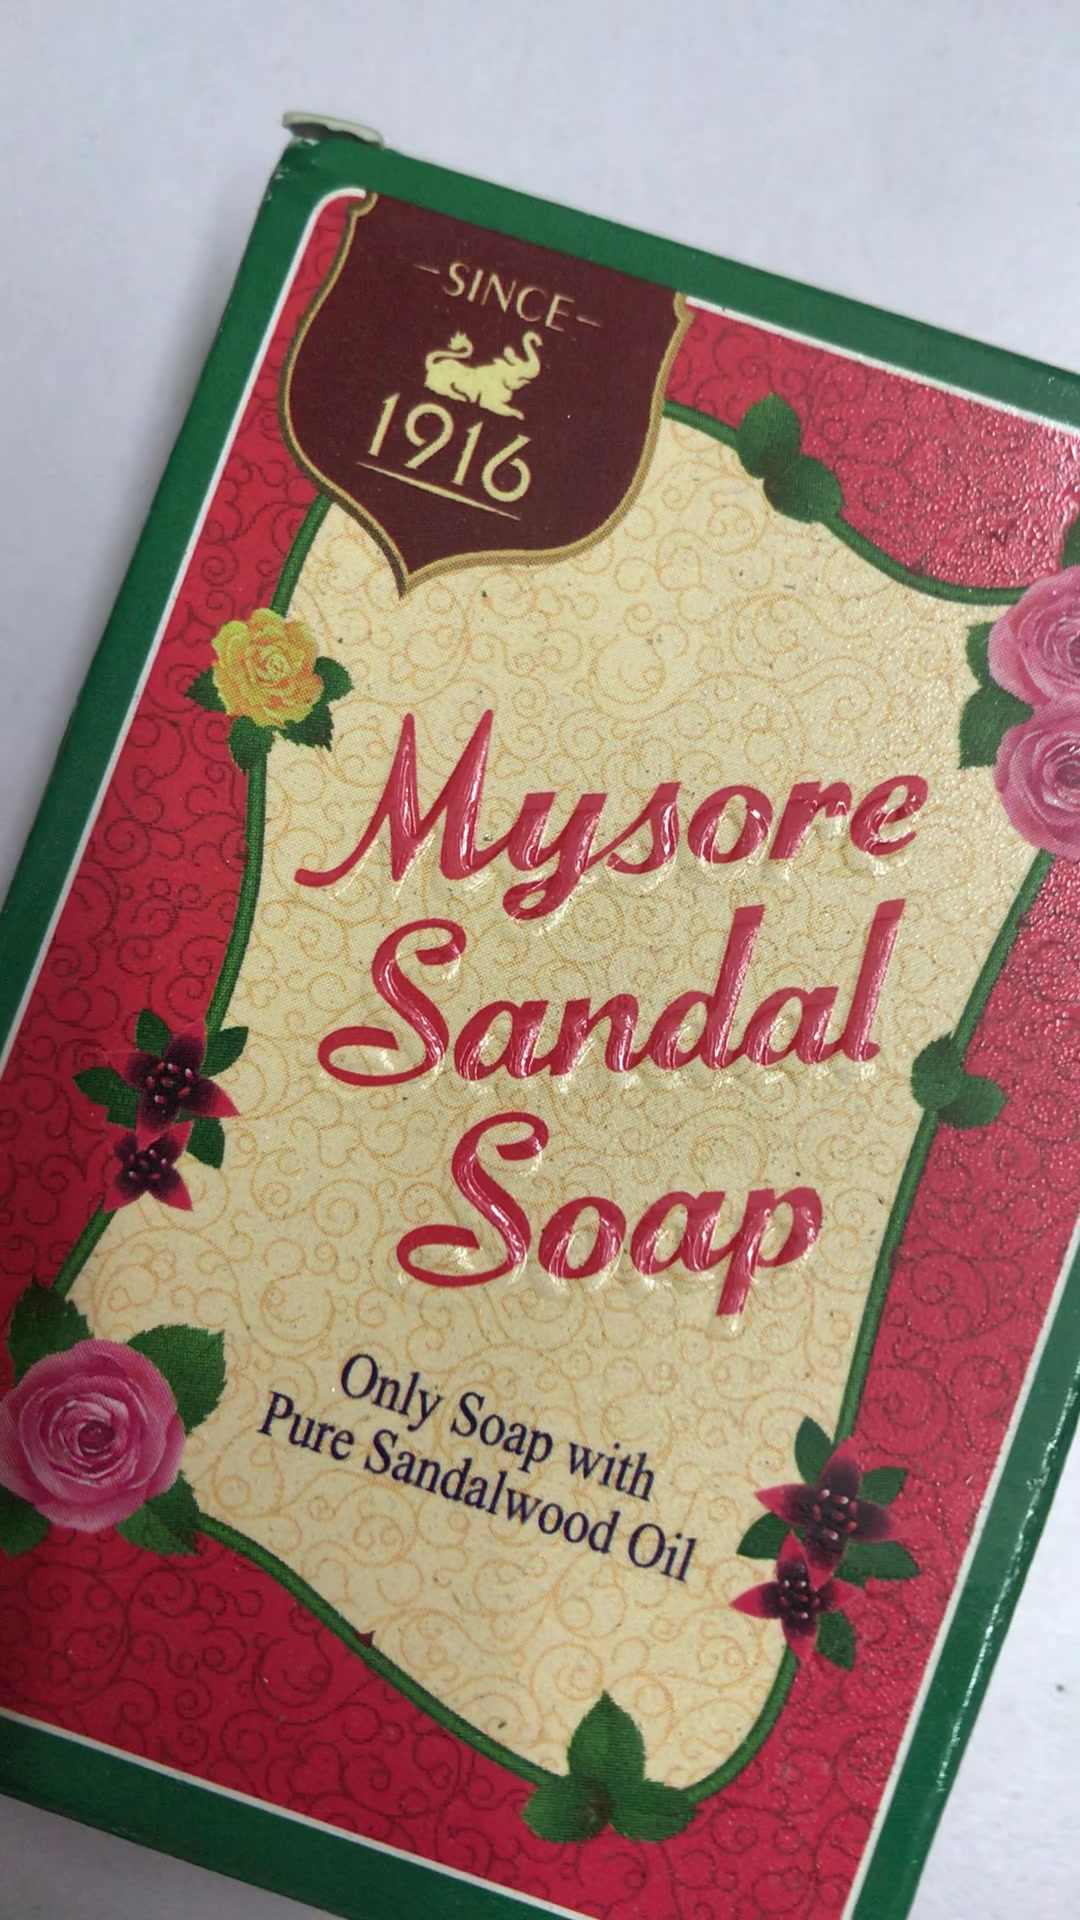mysore sandal soap: (1, 117, 1073, 1913)
